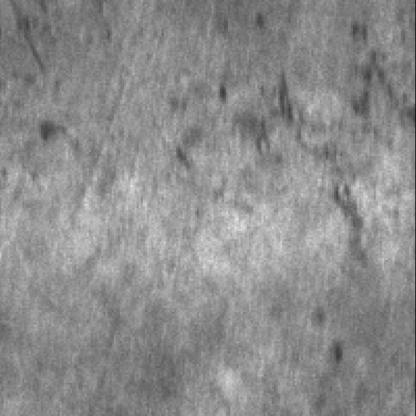rolled-in_scale: (183, 54, 412, 279), (15, 2, 77, 148)
